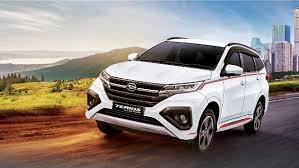mobil: (84, 30, 272, 156)
